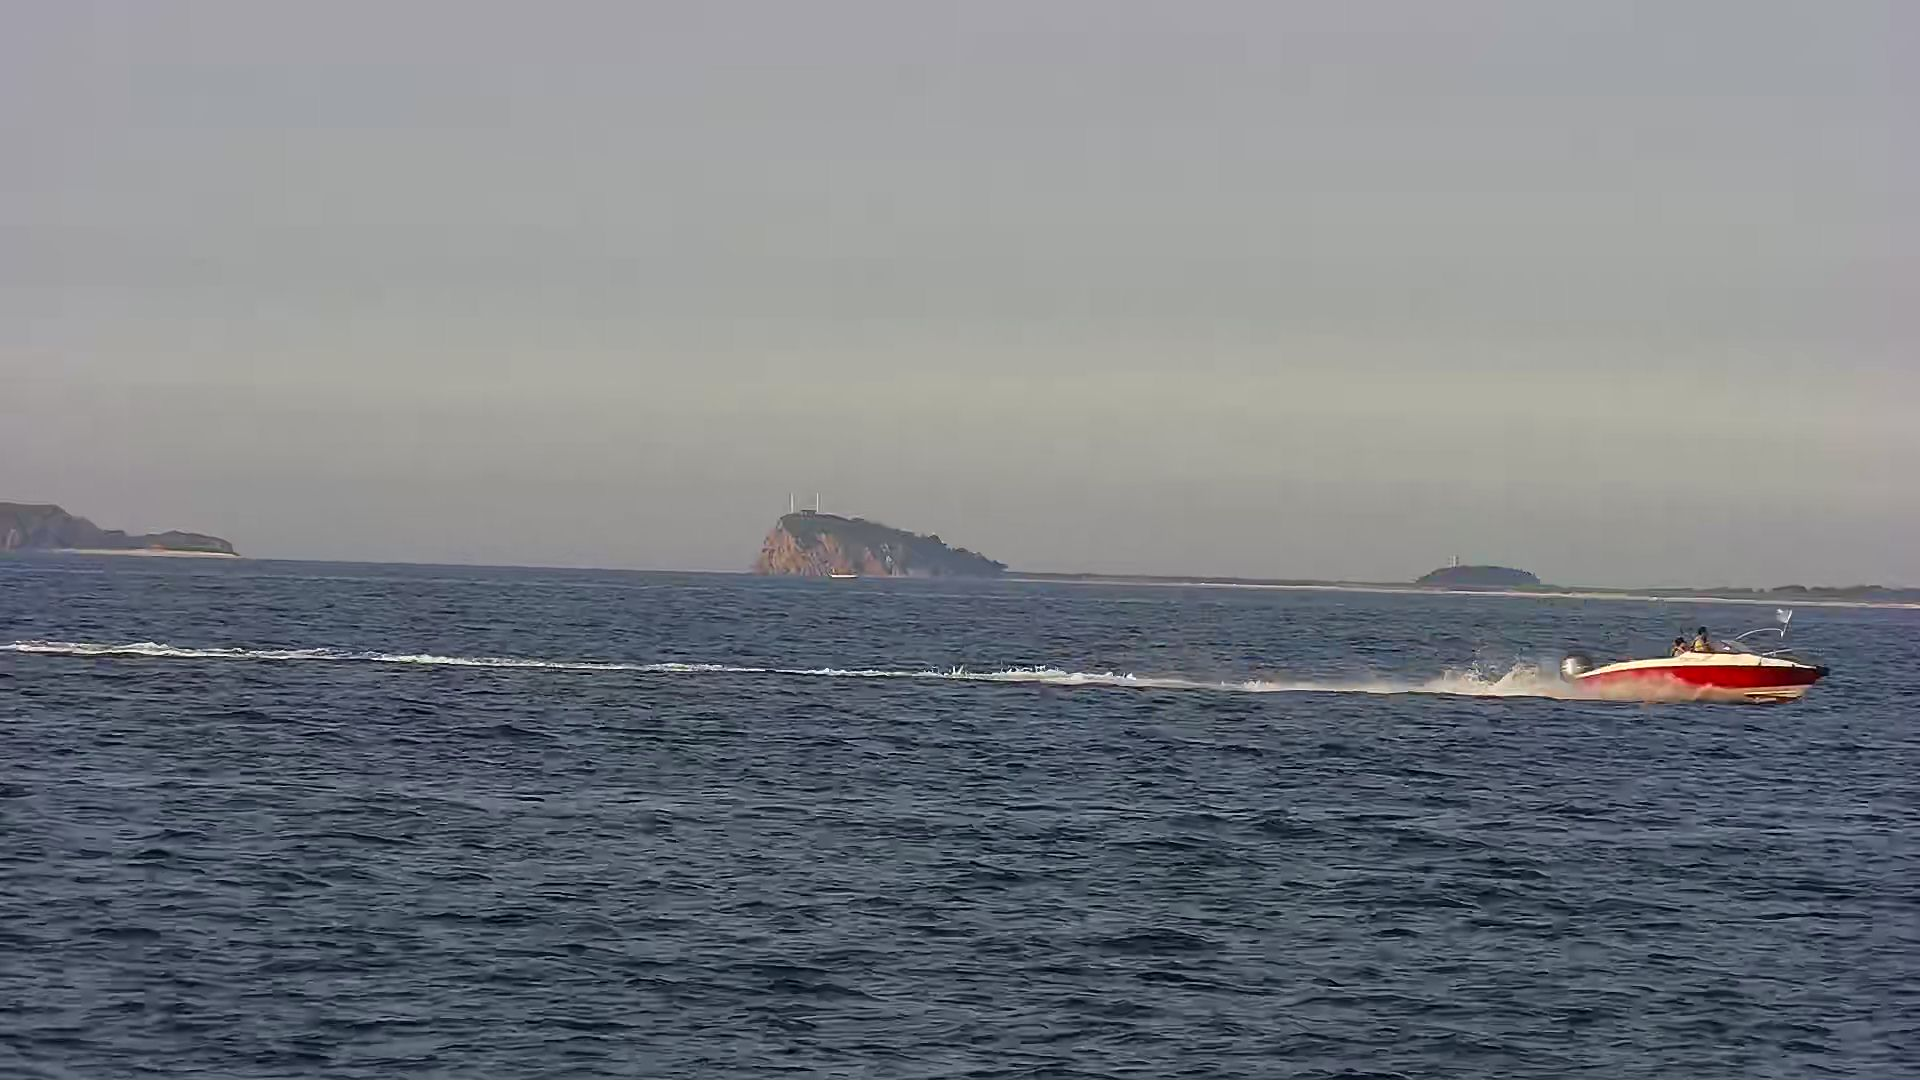boat: (1561, 603, 1842, 703)
rock: (760, 483, 1025, 583), (3, 480, 248, 564), (1422, 556, 1545, 591)
